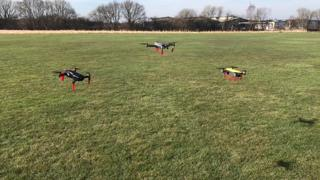UAV: (54, 68, 91, 90), (216, 66, 247, 82), (140, 42, 178, 55)
